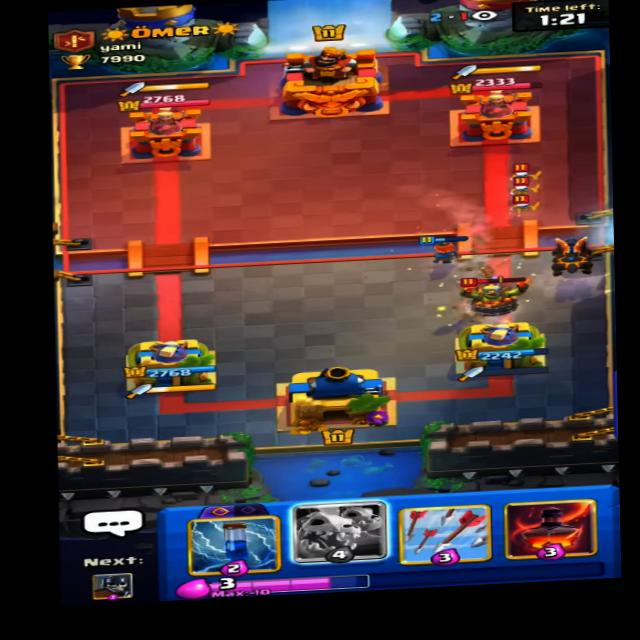goblin-demolisher: (441, 271, 544, 316)
skeleton: (504, 189, 537, 218), (508, 176, 538, 199), (512, 160, 540, 183)
